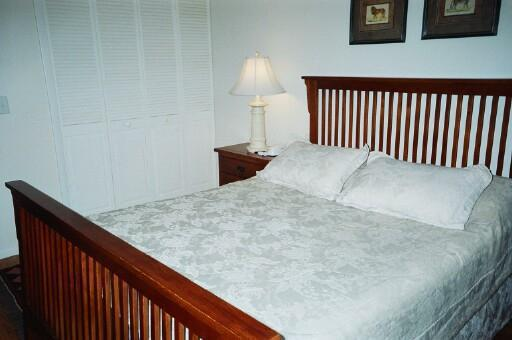Armario: (37, 4, 216, 183)
Cama: (12, 78, 508, 338)
